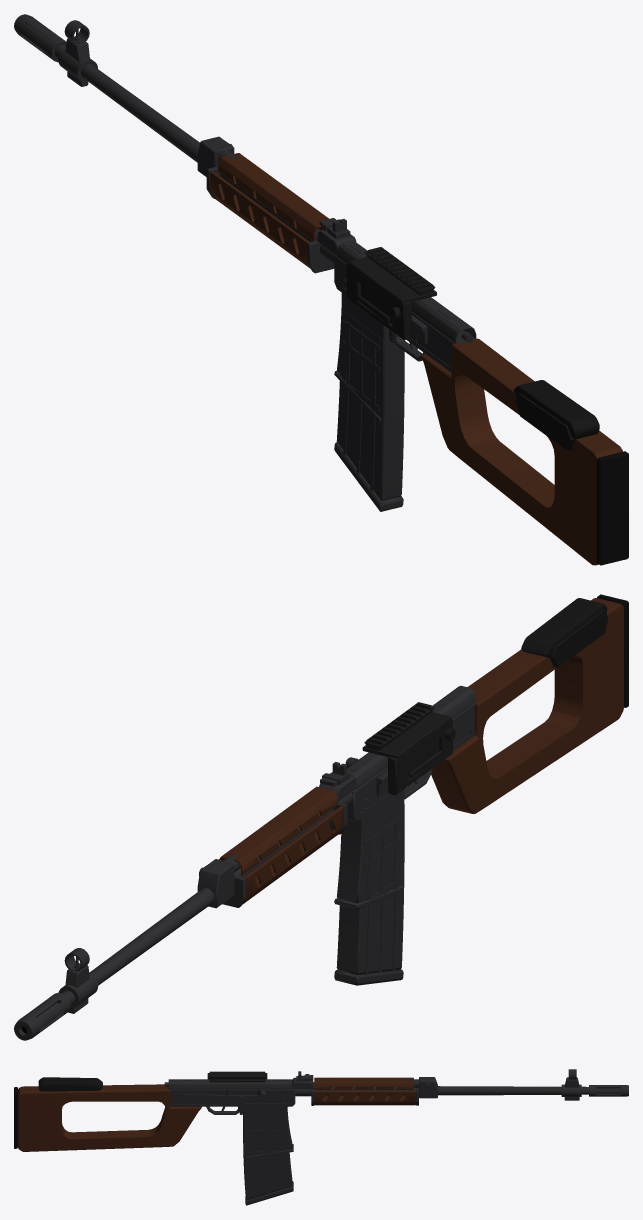
File: svd.glb
The picture shows the model from 3 angles, top to bottom: view 1: azimuth 30°, elevation 25°; view 2: azimuth 150°, elevation 25°; view 3: azimuth 270°, elevation 25°; orthographic projection. The views are drawn at different scales.
Visible parts, largest first — view 1: body, mag_ext, mag_fast, barrel_std, optic_iron; view 2: body, mag_ext, mag_fast, barrel_std, optic_iron; view 3: body, mag_ext, mag_fast, barrel_std, optic_iron, act_carrier.
Part boxes in pixels (<box>): body: <box>54,20,628,565</box>; mag_ext: <box>334,287,404,511</box>; mag_fast: <box>334,289,404,422</box>; barrel_std: <box>14,14,66,62</box>; optic_iron: <box>317,218,356,255</box>; body: <box>58,594,628,1013</box>; mag_ext: <box>334,789,404,985</box>; mag_fast: <box>334,793,404,909</box>; barrel_std: <box>14,992,70,1040</box>; optic_iron: <box>319,762,356,801</box>; body: <box>14,1069,588,1151</box>; mag_ext: <box>243,1103,293,1205</box>; mag_fast: <box>243,1104,293,1159</box>; barrel_std: <box>589,1085,628,1096</box>; optic_iron: <box>292,1071,313,1089</box>; act_carrier: <box>227,1089,265,1098</box>.
Size of the model in its own units: 0.069 by 0.2946 by 1.23.
